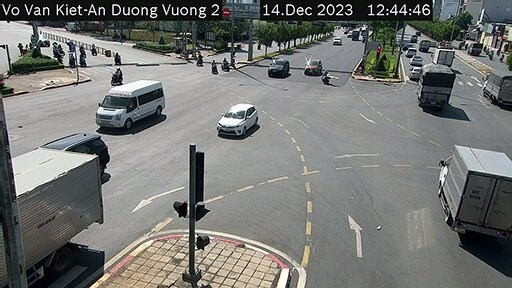car: (28, 136, 125, 177), (90, 84, 180, 124), (218, 99, 260, 132), (268, 55, 286, 84), (304, 56, 318, 79), (331, 34, 341, 51)
motorbike: (206, 61, 222, 78), (219, 55, 231, 76), (108, 67, 122, 83)
truck: (1, 147, 125, 283), (417, 142, 512, 242), (416, 62, 455, 112), (481, 65, 512, 109), (431, 45, 455, 72), (419, 39, 431, 53)
